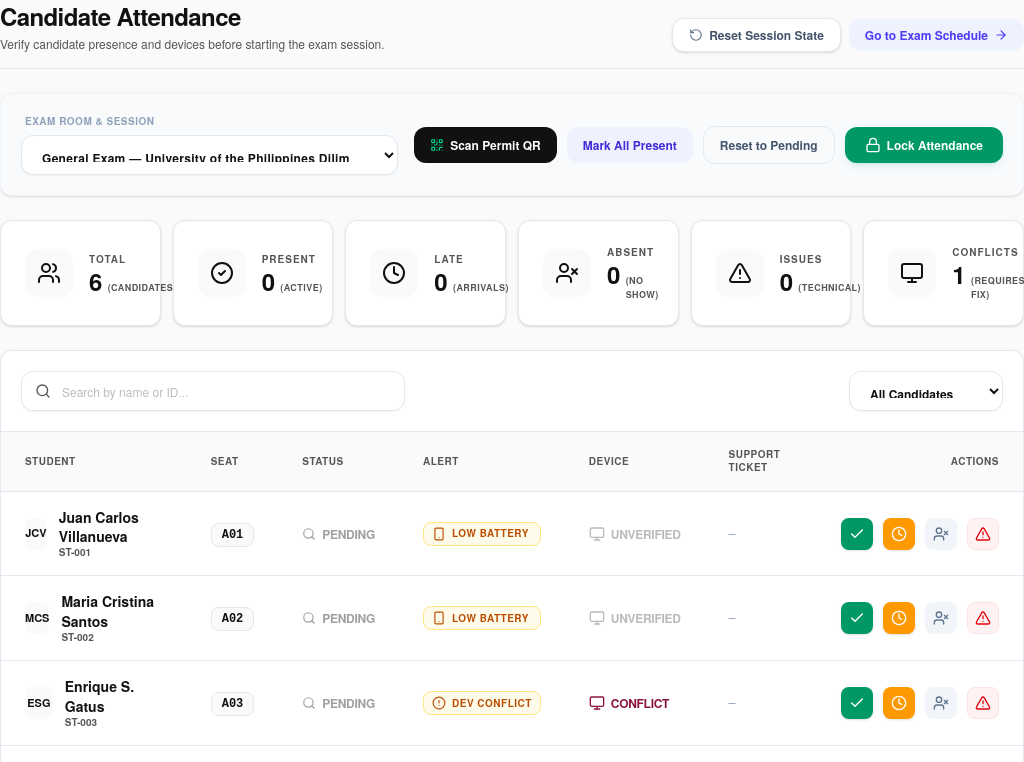
ProctorAttendance — QR scan › marks a candidate Present when scanned within the grace period
What coordinates should you click on to do the following:
click the button "Scan Permit QR"
I would click on:
 (486, 144)
Its box is [414,126,557,162].
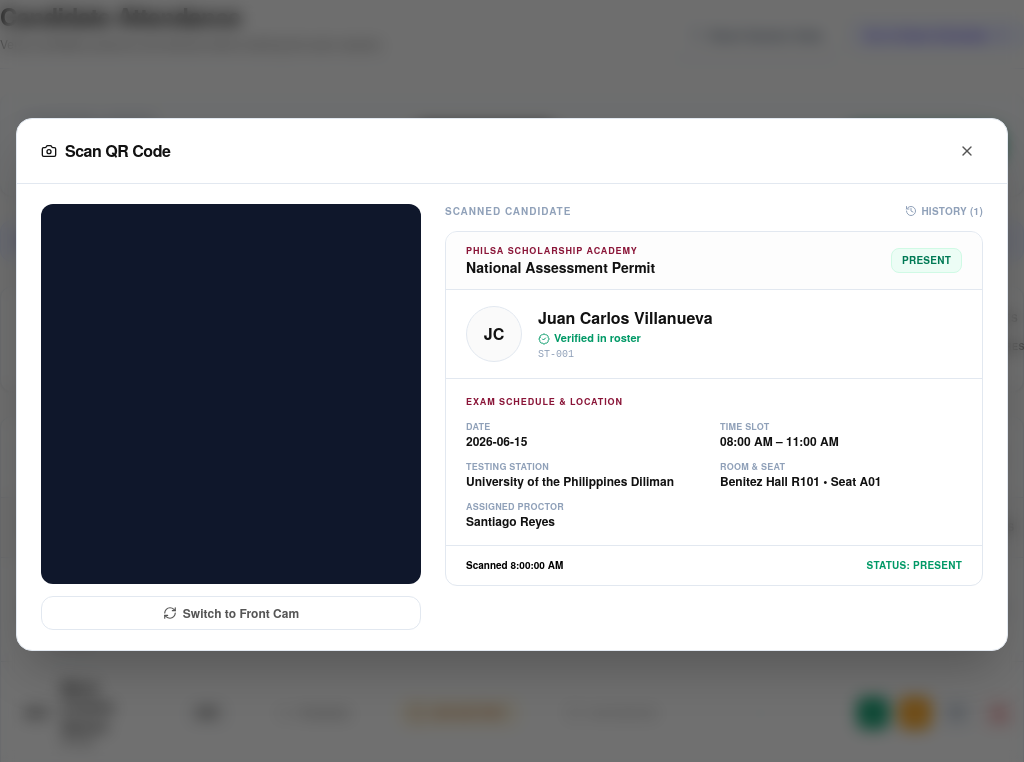
Result: the text "Present" is shown at [277,601,352,617]
